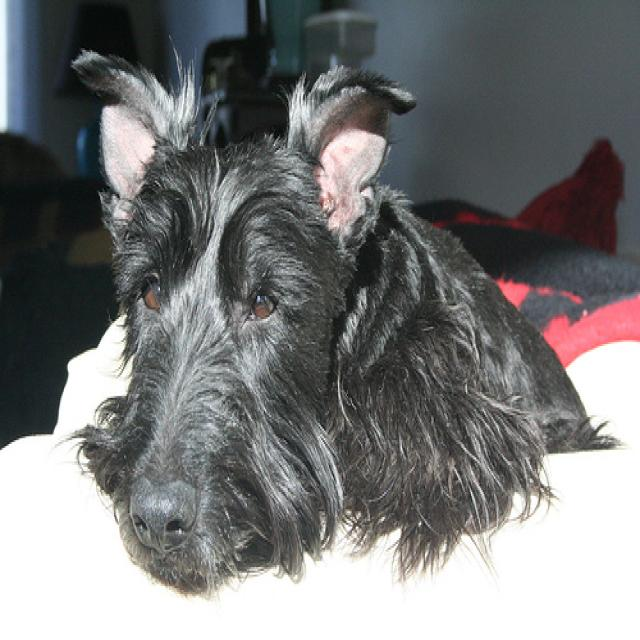dog-scottish_terrier: (65, 44, 602, 586)
